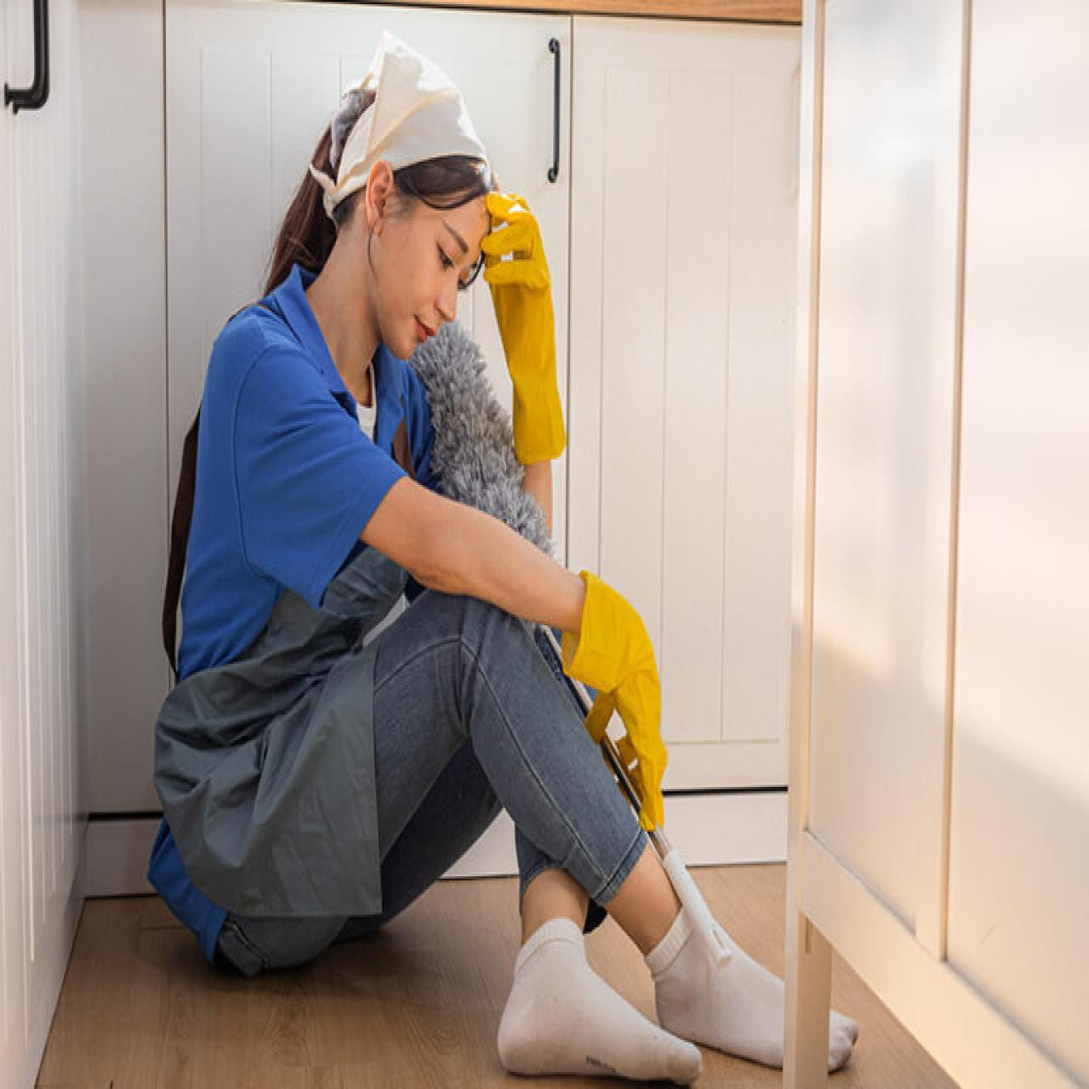NO_Safety_Vest: (200, 321, 417, 894)
Person: (150, 35, 873, 1085)
